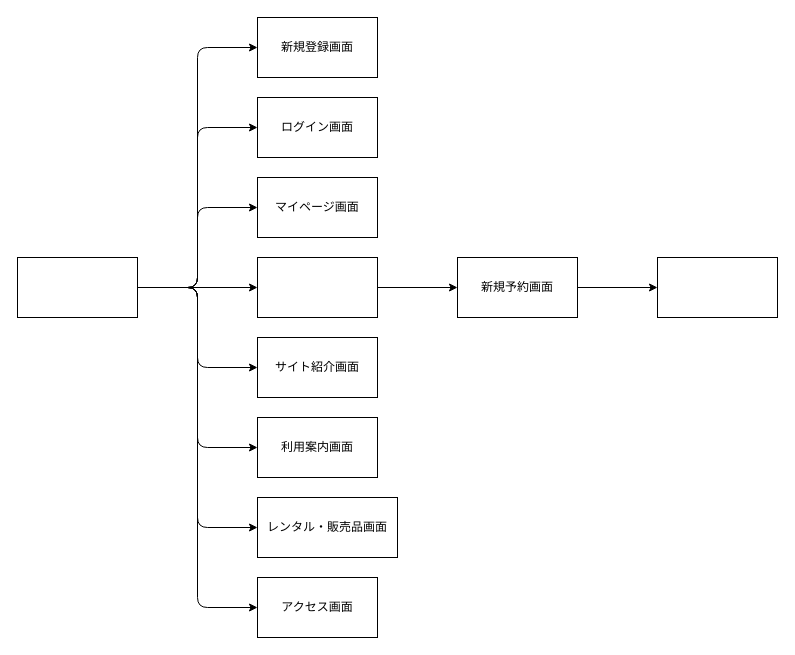
Some shapes in this 795 by 655 pixel diagram are drawn without their labels. Here are the shapes that lost their labels. From the top down, the centre of each, then its label:
At pixel 77 287: "トップ画面".
At pixel 317 287: "予約状況確認画面".
At pixel 717 287: "予約完了画面".
